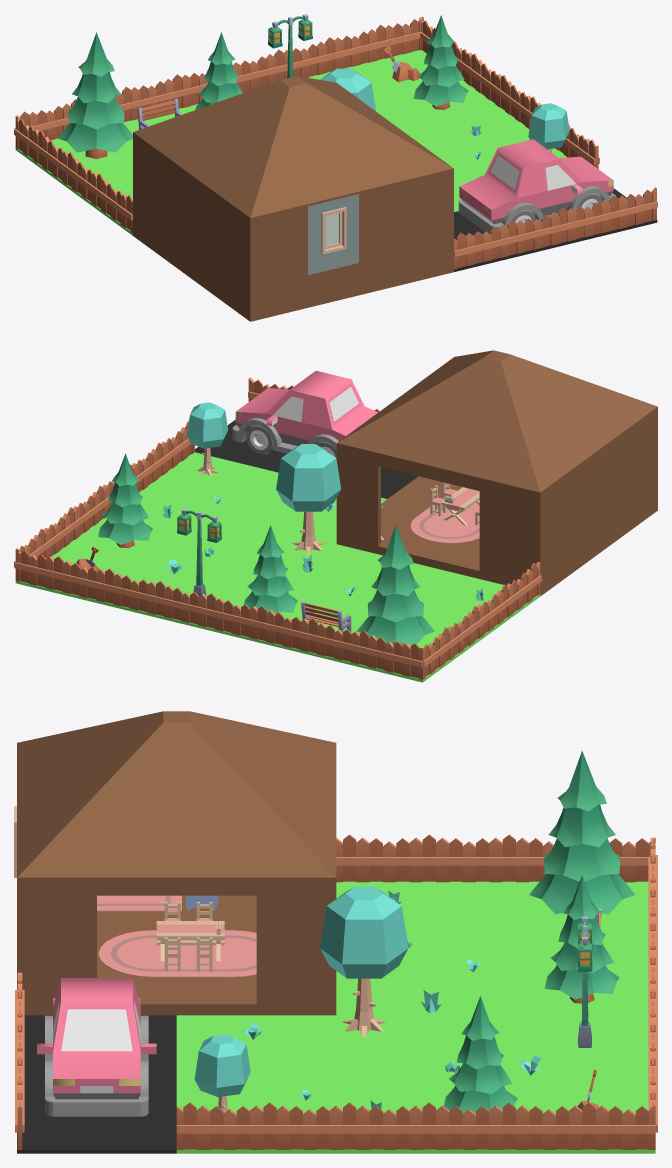
Rendered from Casa.fbx.
3 renders of one model, top to bottom at view 1: azimuth 30°, elevation 25°; view 2: azimuth 150°, elevation 25°; view 3: azimuth 270°, elevation 25°, orthographic. The views are drawn at different scales.
Visible parts, largest first — view 1: Paredes, Cube, Cesped, sedan, pine, wallWindow, pine.002, pine.001, fence.001, fence.002, fence.013, fence (+20 smaller); view 2: Cesped, Paredes, Cube, sedan, pine, tree_oak, pine.002, pine.001, rugRounded, tree_oak.001, fence.014, fence.013 (+18 smaller); view 3: Cesped, Cube, Paredes, sedan, pine, tree_oak, rugRounded, pine.002, pine.001, fence.023, fence.006, fence.008 (+11 smaller).
Boxes of the visible parts, box(x1,y1,x2,y2) form: Paredes: box(133, 132, 453, 321); Cube: box(133, 76, 453, 217); Cesped: box(15, 50, 657, 271); sedan: box(458, 139, 616, 233); pine: box(57, 32, 132, 158); wallWindow: box(308, 194, 358, 275); pine.002: box(413, 15, 468, 109); pine.001: box(195, 32, 242, 109); fence.001: box(504, 212, 556, 256); fence.002: box(555, 200, 606, 244); fence.013: box(322, 29, 373, 73); fence: box(454, 224, 505, 269); Cesped: box(15, 419, 540, 682); Paredes: box(336, 407, 657, 596); Cube: box(337, 350, 657, 492); sedan: box(232, 370, 377, 458); pine: box(357, 525, 434, 645); tree_oak: box(276, 444, 341, 554); pine.002: box(98, 453, 152, 548); pine.001: box(244, 525, 297, 614); rugRounded: box(410, 500, 479, 543); tree_oak.001: box(187, 402, 227, 475); fence.014: box(116, 573, 168, 617); fence.013: box(65, 560, 117, 605); Cesped: box(17, 881, 655, 1153); Cube: box(17, 711, 336, 877); Paredes: box(17, 877, 336, 1015); sedan: box(37, 978, 156, 1116); pine: box(529, 751, 634, 915); tree_oak: box(320, 886, 408, 1036); rugRounded: box(98, 930, 256, 977); pine.002: box(444, 996, 517, 1113); pine.001: box(544, 875, 619, 1003); fence.023: box(336, 834, 416, 882); fence.006: box(176, 1102, 256, 1149); fence.008: box(336, 1102, 416, 1149).
Bounding box in the file's own units: 1612 × 648 × 1614.
Materials: 110 (28 with a texture image).
